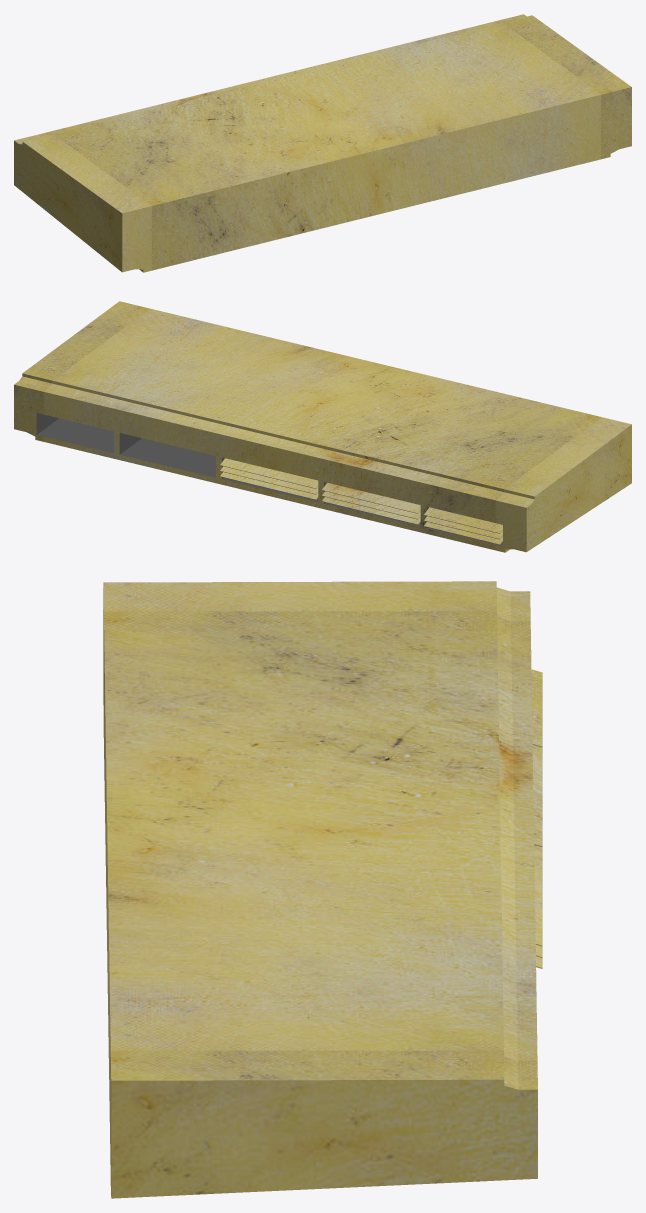
The model's file is Aire_Acondicionado.fbx.
The picture shows the model from 3 angles, top to bottom: view 1: azimuth 30°, elevation 25°; view 2: azimuth 150°, elevation 25°; view 3: azimuth 270°, elevation 25°; orthographic projection. The views are drawn at different scales.
Parts seen in each view (by area): view 1: Aire_Acondicionado; view 2: Aire_Acondicionado; view 3: Aire_Acondicionado.
Part boxes in pixels (x1=…): Aire_Acondicionado: x1=14, y1=14, x2=631, y2=272; Aire_Acondicionado: x1=14, y1=301, x2=631, y2=552; Aire_Acondicionado: x1=103, y1=581, x2=542, y2=1198.
Bounding box in the file's own units: 415 × 50 × 154.
2 materials, 1 textured.
